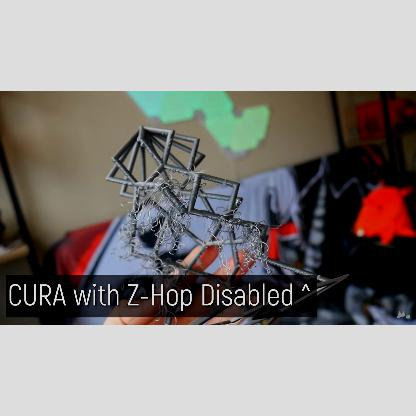fail: (134, 188, 184, 248), (238, 228, 264, 258)
